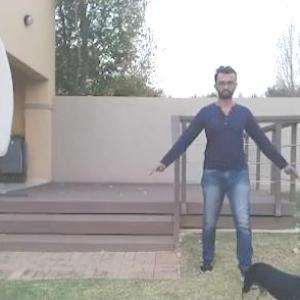land: (165, 74, 279, 270)
